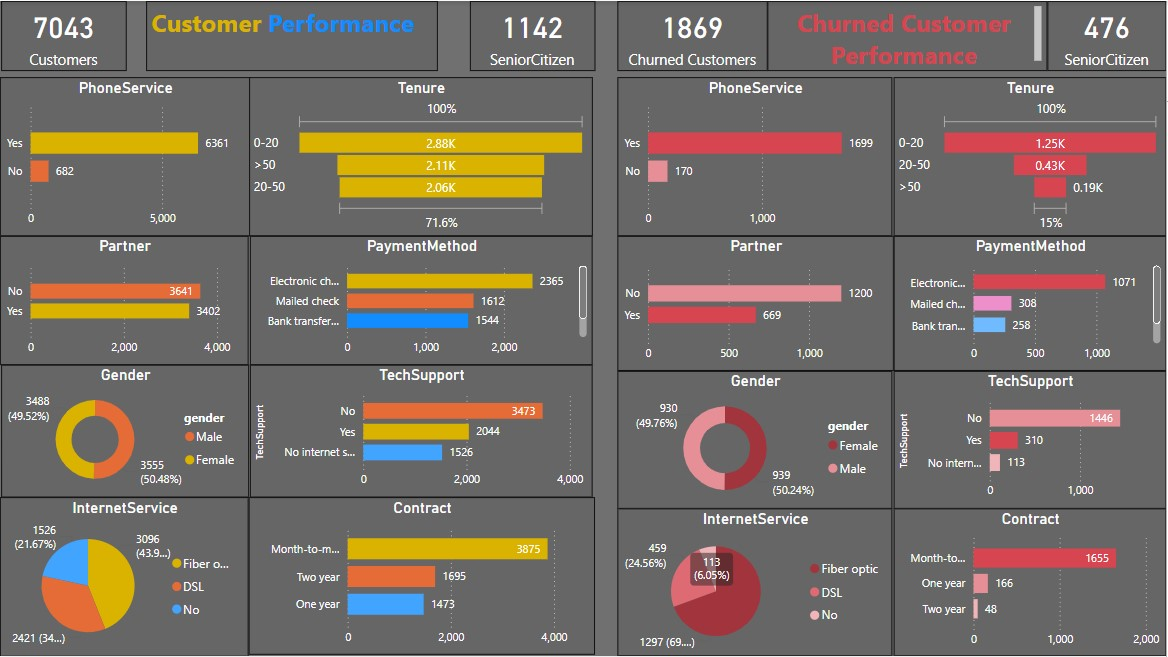

This screenshot's page, from the dashboard's own definition file:
{"tool":"powerbi","page":{"name":"Churn Analysis","canvas":[1280,720],"ordinal":1},"visuals":[{"type":"donutChart","title":"Gender","fields":{"Category":["Telco-Customer-Churn.gender"],"Y":["CountNonNull(Telco-Customer-Churn.gender)"]},"box":[1.4,399.3,271.7,145.5],"z":0},{"type":"funnel","title":"Tenure","fields":{"Category":["Telco-Customer-Churn.Tenure_Bins"],"Y":["CountNonNull(Telco-Customer-Churn.Tenure_Bins)"]},"box":[273.1,83.7,377.4,174.3],"z":1000},{"type":"card","title":"Total Senior Citizen","fields":{"Values":["CountNonNull(Telco-Customer-Churn.Churn)"]},"box":[1.4,0,137.2,76.8],"z":2000},{"type":"clusteredBarChart","title":"Partner","fields":{"Category":["Telco-Customer-Churn.Partner"],"Y":["CountNonNull(Telco-Customer-Churn.Partner)"]},"box":[0,258,273.1,141.3],"z":3000},{"type":"clusteredBarChart","title":"PhoneService","fields":{"Category":["Telco-Customer-Churn.PhoneService"],"Y":["CountNonNull(Telco-Customer-Churn.PhoneService)"]},"box":[0,83.7,274.4,174.3],"z":4000},{"type":"clusteredBarChart","title":"TechSupport","fields":{"Category":["Telco-Customer-Churn.TechSupport"],"Y":["CountNonNull(Telco-Customer-Churn.TechSupport)"]},"box":[274.4,399.3,376,145.5],"z":5000},{"type":"clusteredBarChart","title":"Contract","fields":{"Category":["Telco-Customer-Churn.Contract"],"Y":["CountNonNull(Telco-Customer-Churn.Contract)"]},"box":[273.1,544.8,380.1,172.9],"z":6000},{"type":"clusteredBarChart","title":"PaymentMethod","fields":{"Category":["Telco-Customer-Churn.PaymentMethod"],"Y":["CountNonNull(Telco-Customer-Churn.PaymentMethod)"]},"box":[274.4,258,376,141.3],"z":7000},{"type":"pieChart","title":"InternetService","fields":{"Category":["Telco-Customer-Churn.InternetService"],"Y":["CountNonNull(Telco-Customer-Churn.InternetService)"]},"box":[0,544.8,273.1,175.6],"z":8000},{"type":"card","title":"Total Senior Citizen","fields":{"Values":["Sum(Telco-Customer-Churn.SeniorCitizen)"]},"box":[1149.9,0,130.4,76.8],"z":9000},{"type":"card","title":"Total Senior Citizen","fields":{"Values":["CountNonNull(Telco-Customer-Churn.Churn)"]},"box":[677.9,0,164.7,76.8],"z":10000},{"type":"funnel","title":"Tenure","fields":{"Category":["Telco-Customer-Churn.Tenure_Bins"],"Y":["CountNonNull(Telco-Customer-Churn.Tenure_Bins)"]},"box":[981.1,83.7,299.1,174.3],"z":11000},{"type":"clusteredBarChart","title":"PhoneService","fields":{"Category":["Telco-Customer-Churn.PhoneService"],"Y":["CountNonNull(Telco-Customer-Churn.PhoneService)"]},"box":[677.9,83.7,301.9,174.3],"z":12000},{"type":"clusteredBarChart","title":"Partner","fields":{"Category":["Telco-Customer-Churn.Partner"],"Y":["CountNonNull(Telco-Customer-Churn.Partner)"]},"box":[677.9,258,303.3,148.2],"z":13000},{"type":"clusteredBarChart","title":"PaymentMethod","fields":{"Category":["Telco-Customer-Churn.PaymentMethod"],"Y":["CountNonNull(Telco-Customer-Churn.PaymentMethod)"]},"box":[981.1,258,299.1,148.2],"z":14000},{"type":"donutChart","title":"Gender","fields":{"Category":["Telco-Customer-Churn.gender"],"Y":["CountNonNull(Telco-Customer-Churn.gender)"]},"box":[677.9,406.2,301.9,150.9],"z":15000},{"type":"clusteredBarChart","title":"TechSupport","fields":{"Category":["Telco-Customer-Churn.TechSupport"],"Y":["CountNonNull(Telco-Customer-Churn.TechSupport)"]},"box":[981.1,406.2,299.1,150.9],"z":16000},{"type":"pieChart","title":"InternetService","fields":{"Category":["Telco-Customer-Churn.InternetService"],"Y":["CountNonNull(Telco-Customer-Churn.InternetService)"]},"box":[677.9,557.1,301.9,163.3],"z":17000},{"type":"clusteredBarChart","title":"Contract","fields":{"Category":["Telco-Customer-Churn.Contract"],"Y":["CountNonNull(Telco-Customer-Churn.Contract)"]},"box":[981.1,557.1,299.1,163.3],"z":18000},{"type":"card","title":"Total Senior Citizen","fields":{"Values":["Sum(Telco-Customer-Churn.SeniorCitizen)"]},"box":[516,0,137.2,76.8],"z":19000},{"type":"textbox","box":[160.5,0,319.7,76.8],"z":20000},{"type":"textbox","box":[830.2,0,319.7,76.8],"z":21000}]}

Visuals, with their boxes in screenshot pixels (x1, y1, x2, y2), scaled from the page's 1280x720 canvas onto the 1168x657 screenshot:
"Gender" donutChart: select_region(1, 364, 249, 497)
"Tenure" funnel: select_region(249, 76, 594, 235)
"Total Senior Citizen" card: select_region(1, 0, 126, 70)
"Partner" clusteredBarChart: select_region(0, 235, 249, 364)
"PhoneService" clusteredBarChart: select_region(0, 76, 250, 235)
"TechSupport" clusteredBarChart: select_region(250, 364, 593, 497)
"Contract" clusteredBarChart: select_region(249, 497, 596, 655)
"PaymentMethod" clusteredBarChart: select_region(250, 235, 593, 364)
"InternetService" pieChart: select_region(0, 497, 249, 656)
"Total Senior Citizen" card: select_region(1049, 0, 1167, 70)
"Total Senior Citizen" card: select_region(619, 0, 769, 70)
"Tenure" funnel: select_region(895, 76, 1167, 235)
"PhoneService" clusteredBarChart: select_region(619, 76, 894, 235)
"Partner" clusteredBarChart: select_region(619, 235, 895, 371)
"PaymentMethod" clusteredBarChart: select_region(895, 235, 1167, 371)
"Gender" donutChart: select_region(619, 371, 894, 508)
"TechSupport" clusteredBarChart: select_region(895, 371, 1167, 508)
"InternetService" pieChart: select_region(619, 508, 894, 656)
"Contract" clusteredBarChart: select_region(895, 508, 1167, 656)
"Total Senior Citizen" card: select_region(471, 0, 596, 70)
textbox: select_region(146, 0, 438, 70)
textbox: select_region(758, 0, 1049, 70)
